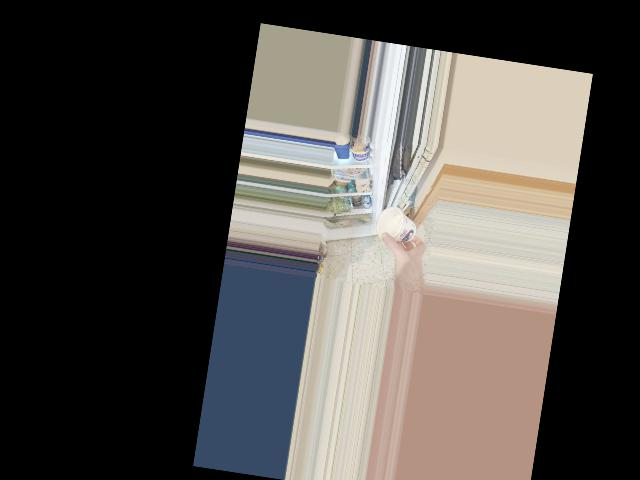cotage: (372, 205, 417, 249)
